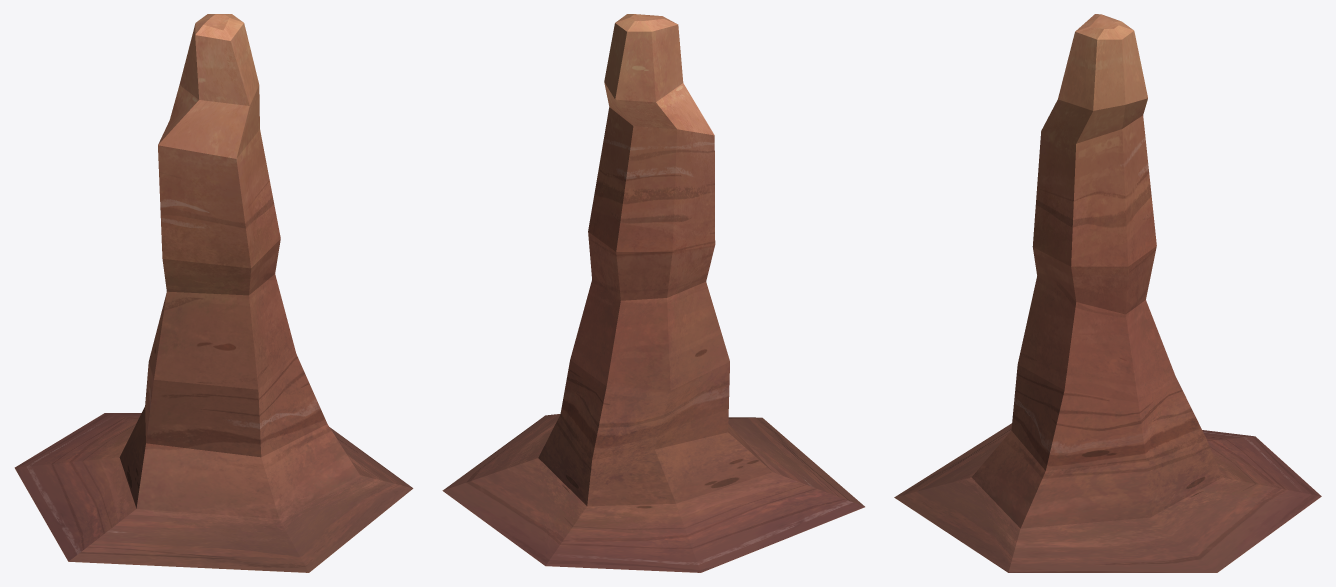
Rendered from spire_2.fbx.
The picture shows the model from 3 angles, left to right: view 1: azimuth 30°, elevation 25°; view 2: azimuth 150°, elevation 25°; view 3: azimuth 270°, elevation 25°; orthographic projection.
Visible parts, largest first — view 1: spire 2; view 2: spire 2; view 3: spire 2.
Part boxes in pixels (box(x1,y1,x2,y2)): spire 2: box(14, 14, 413, 572); spire 2: box(442, 14, 864, 572); spire 2: box(894, 14, 1321, 572).
Bounding box in the file's own units: 264 × 359 × 289.
